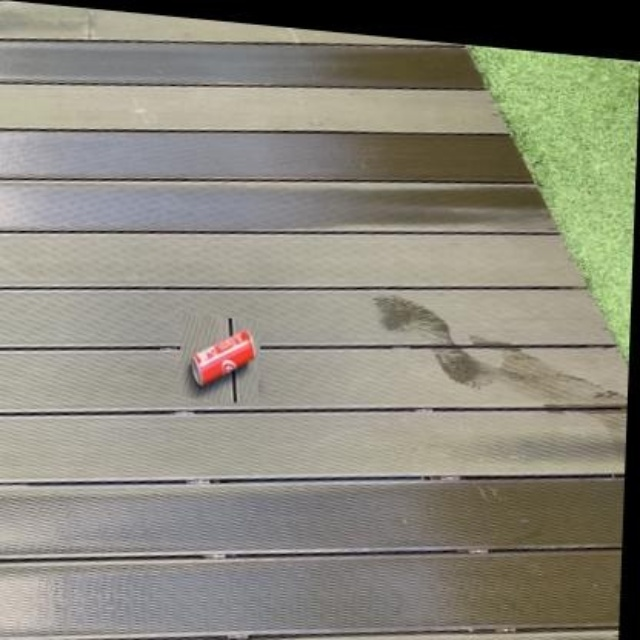trash: (191, 331, 255, 385)
